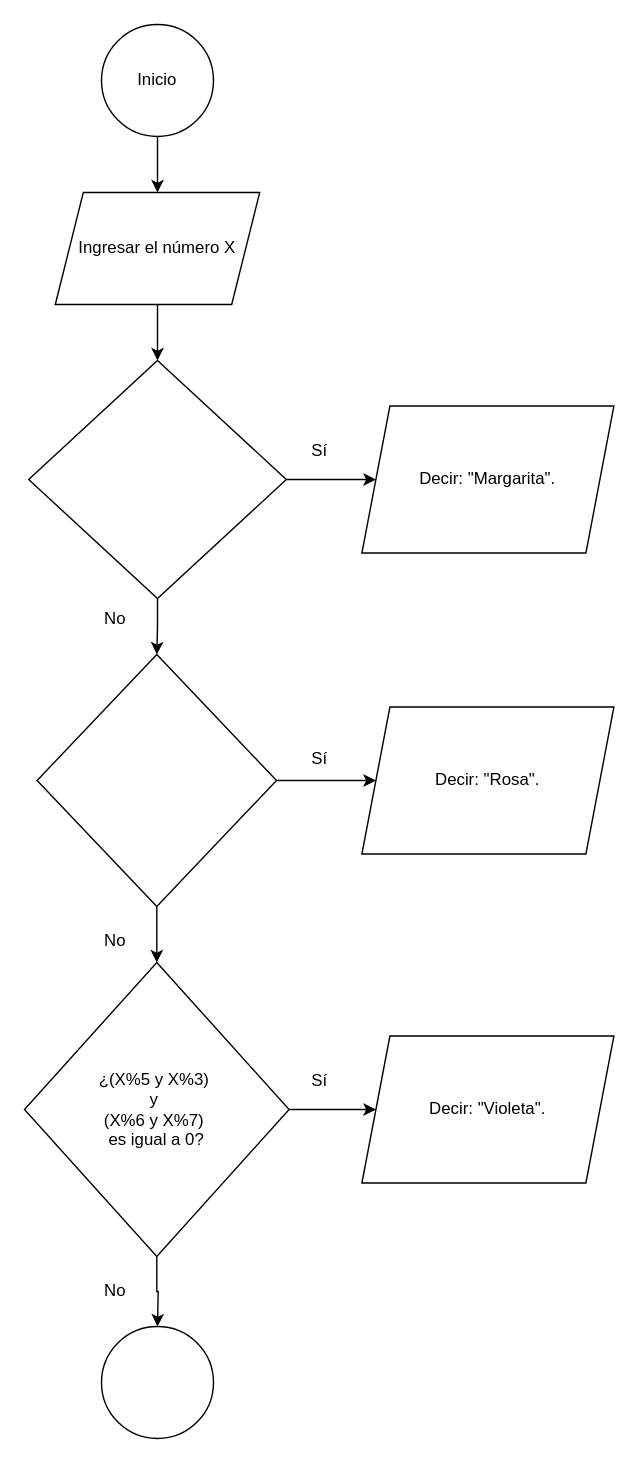
Image size: 638x1463. Some labels were removed from this diagram. The shapes that lost their labels are listed below. From the top down, each one's centre as x and y in pixels, then its label:
the point at 156,478: ¿X%5 y X%3 es igual a 0?
the point at 156,779: ¿X%6 y X%7 es igual a 0?
the point at 157,1381: Fin
